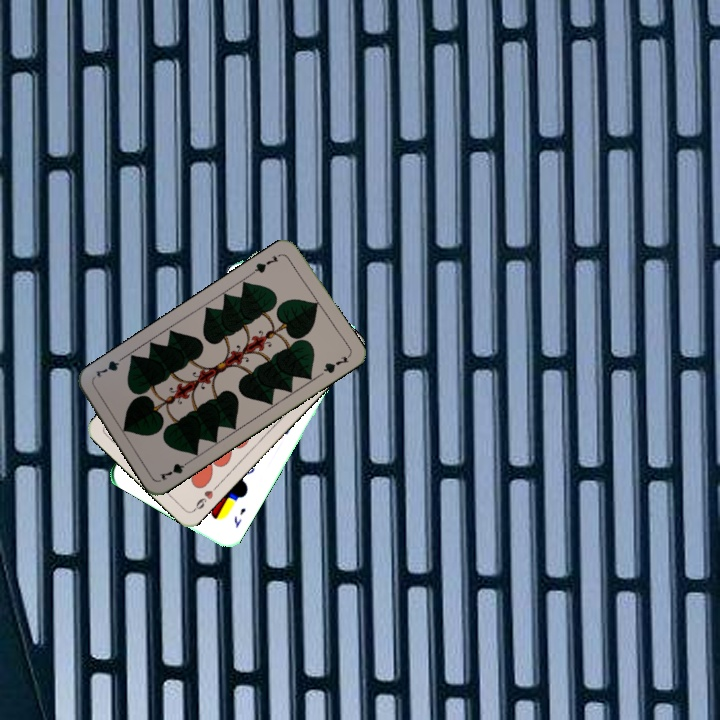EK: (230, 504, 248, 531)
G7: (156, 456, 194, 483), (248, 250, 284, 277)
H9: (189, 481, 221, 514)
